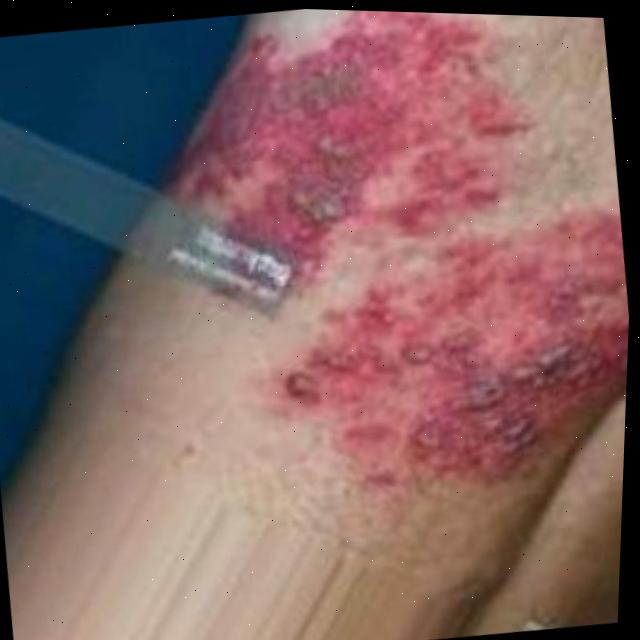Shingles: (178, 6, 640, 499)
